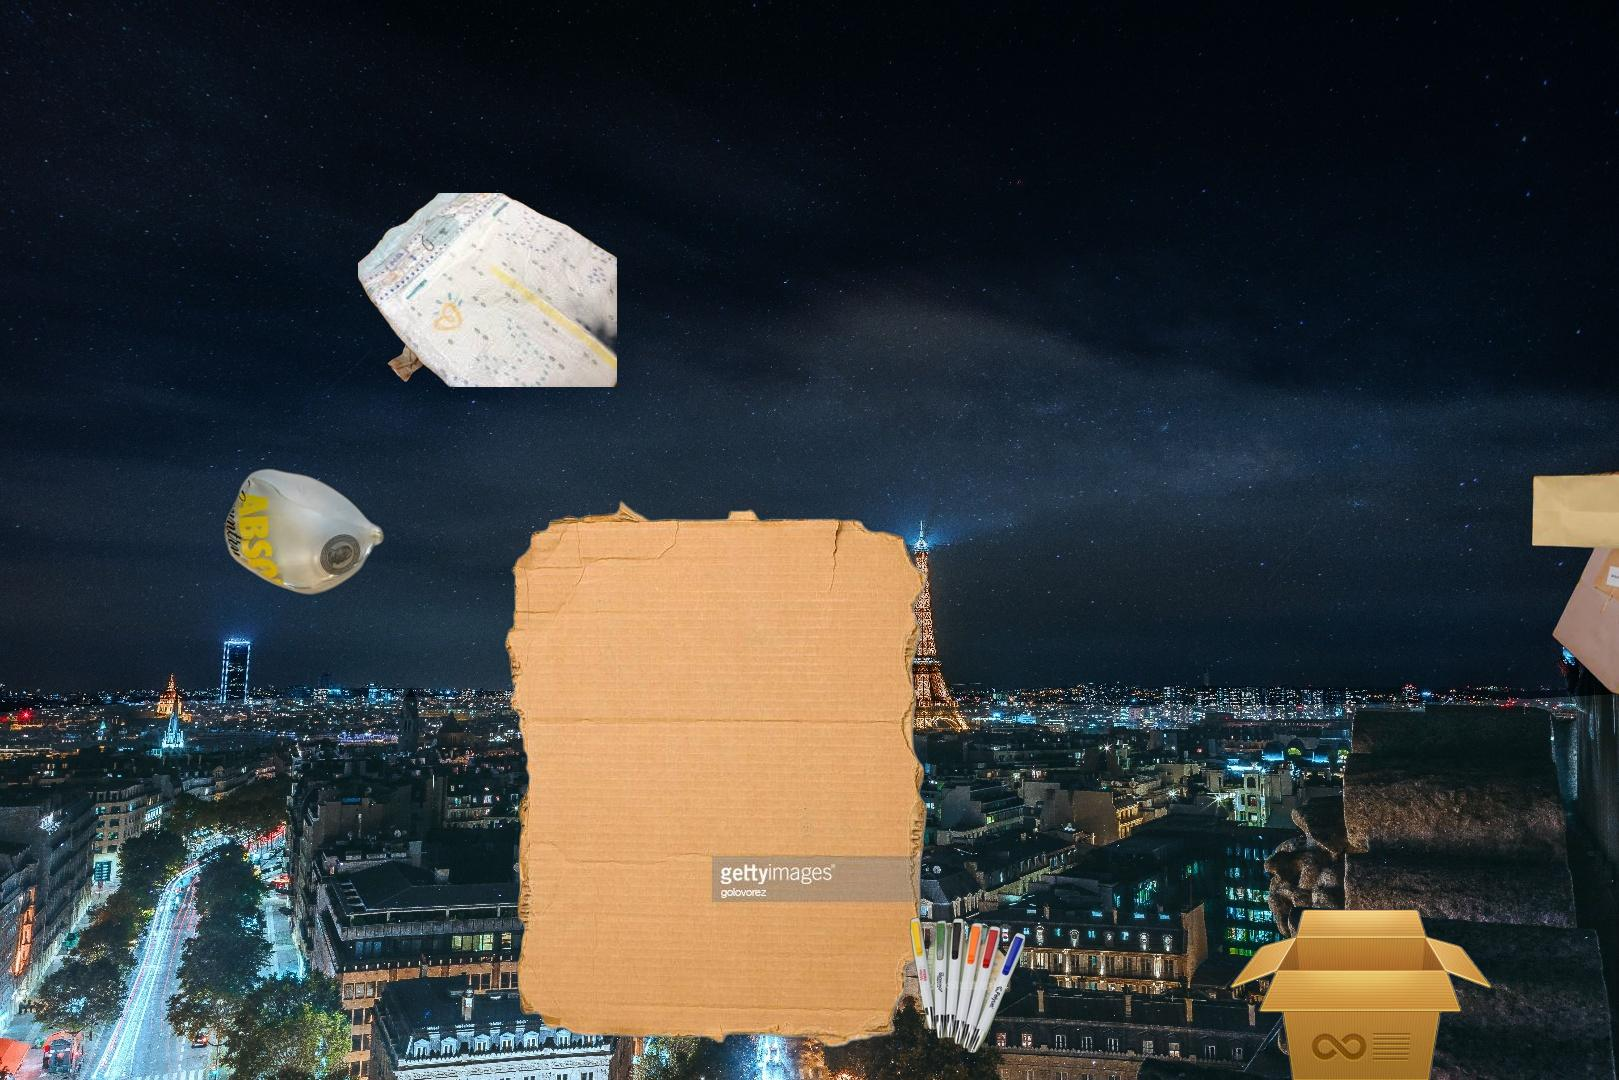glass: (219, 465, 388, 599)
paper-bag: (1482, 427, 1619, 705), (385, 256, 500, 386)
penholder: (907, 909, 1028, 1056)
trash: (358, 193, 617, 387)
trashbox-cardboard: (500, 495, 932, 1053), (979, 879, 1497, 1080)
